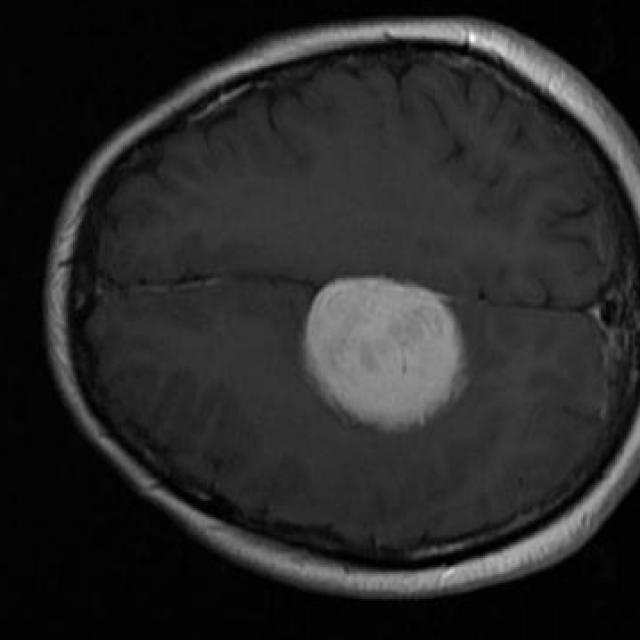meningioma: (305, 278, 467, 433)
